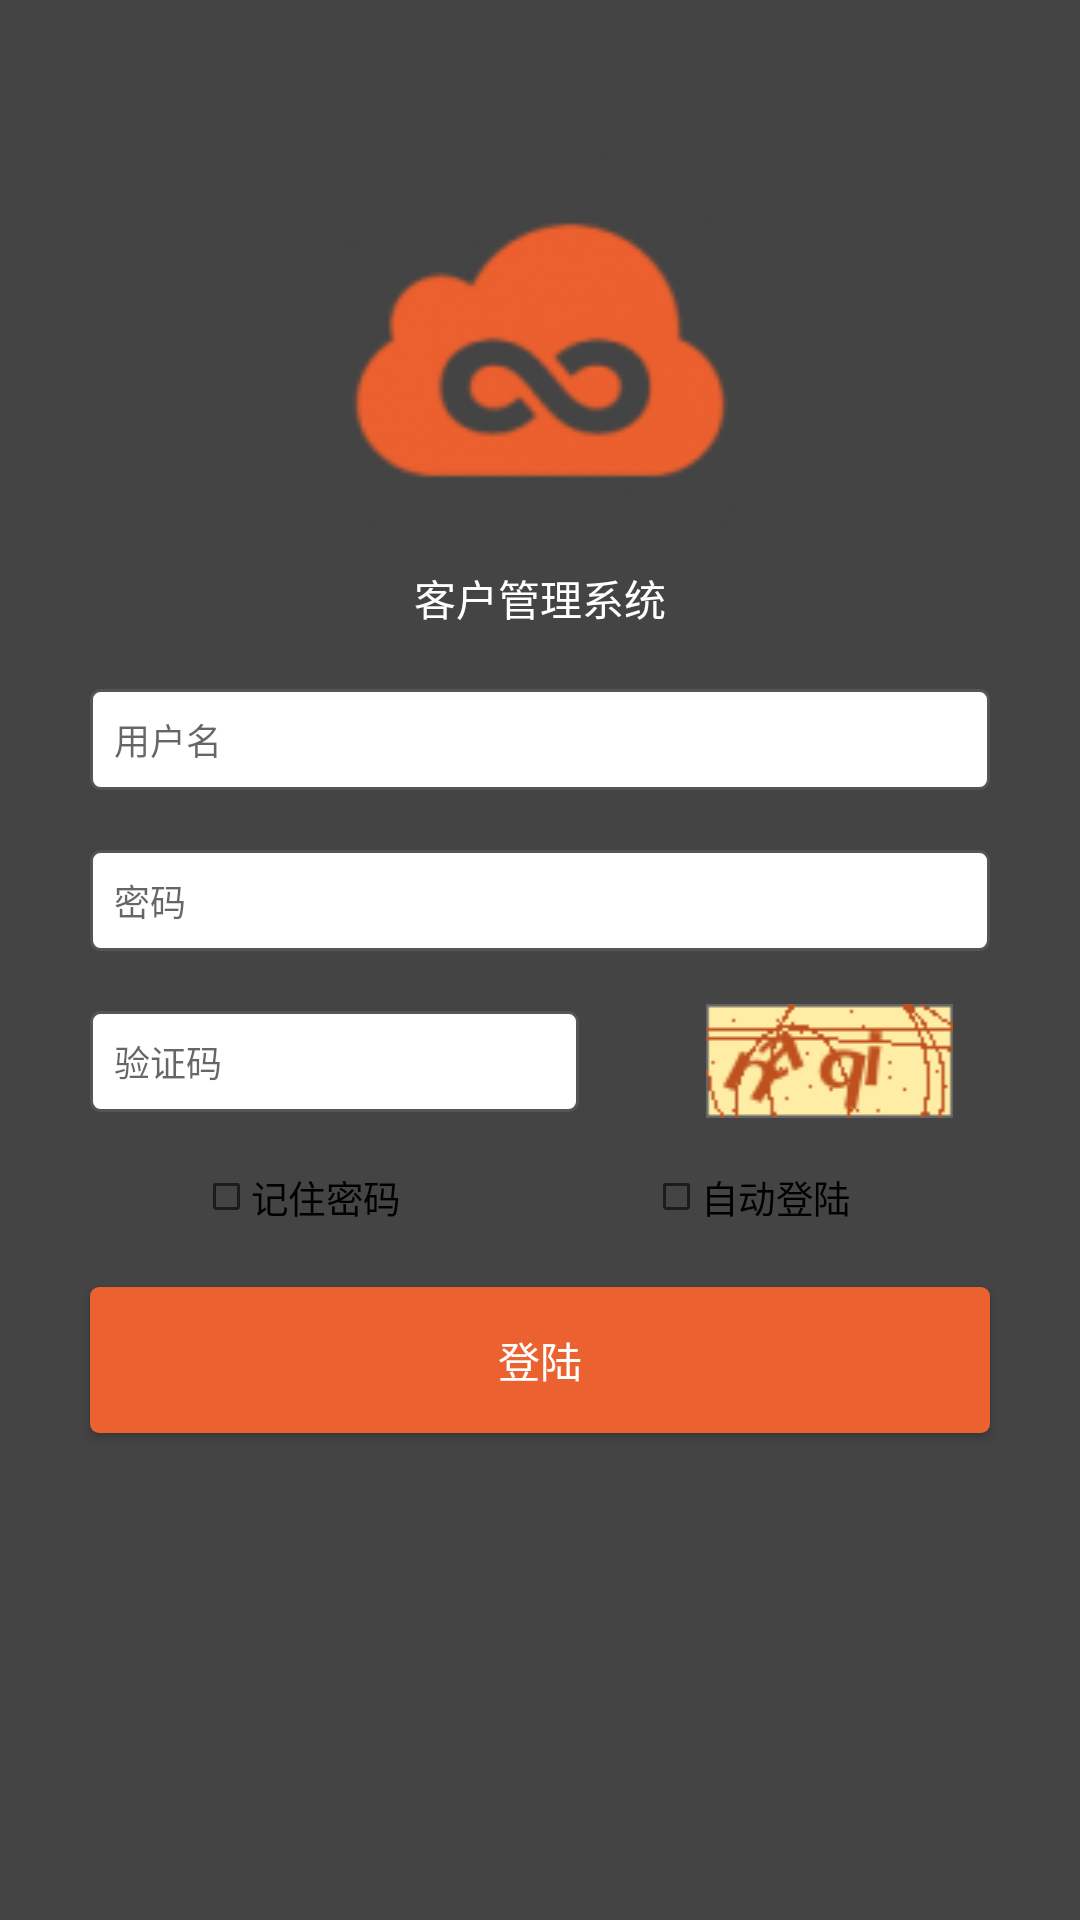

Where icons sit on this 1080 × 1920 app screen, as (x1, y1, x2, y2):
checke code: (706, 1004, 953, 1118)
